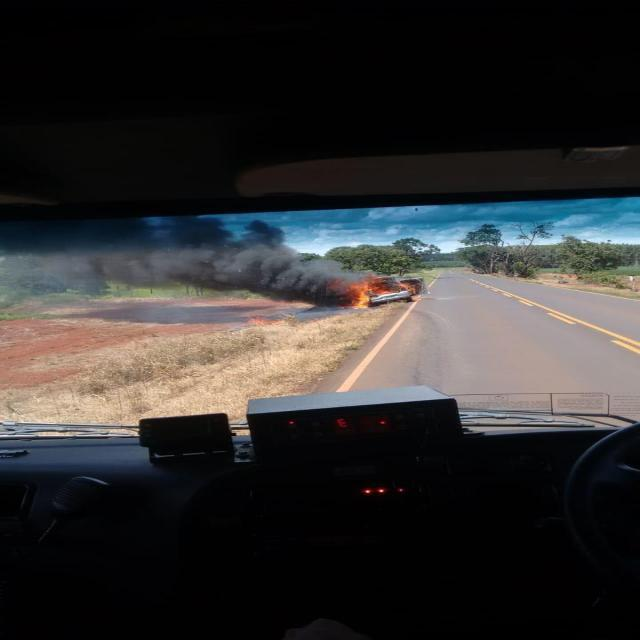Fire: (344, 280, 372, 308), (244, 317, 272, 325), (399, 284, 421, 294)
Smoke: (16, 219, 364, 313)
